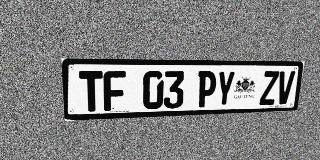0: (142, 71, 164, 110)
3: (163, 71, 185, 109)
F: (103, 71, 126, 111)
P: (196, 71, 217, 107)
T: (79, 71, 103, 112)
V: (275, 71, 295, 104)
Y: (215, 71, 235, 107)
Z: (259, 71, 279, 105)
